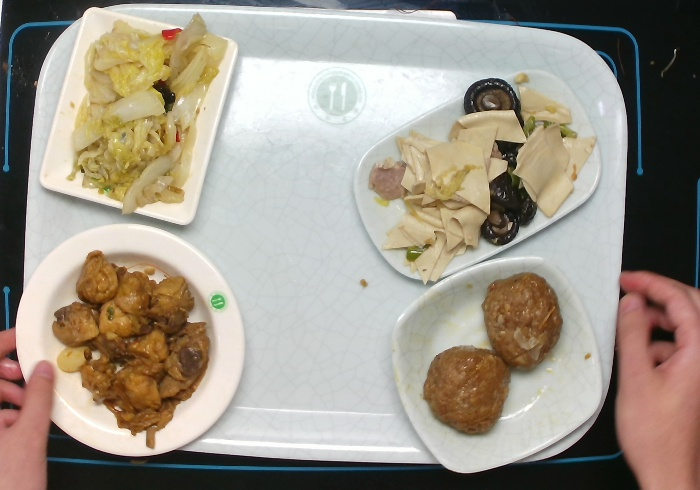WCQzf-Bai_Se_Si_Fang_Die: (35, 5, 242, 231)
WCQzf-Da_Si_Fang_Die: (386, 252, 606, 478)
WCQzf-Kuan_Bian_Yuan_Die: (12, 219, 248, 460)
WCQzf-Tuo_Yuan_Pan: (348, 65, 605, 286)
